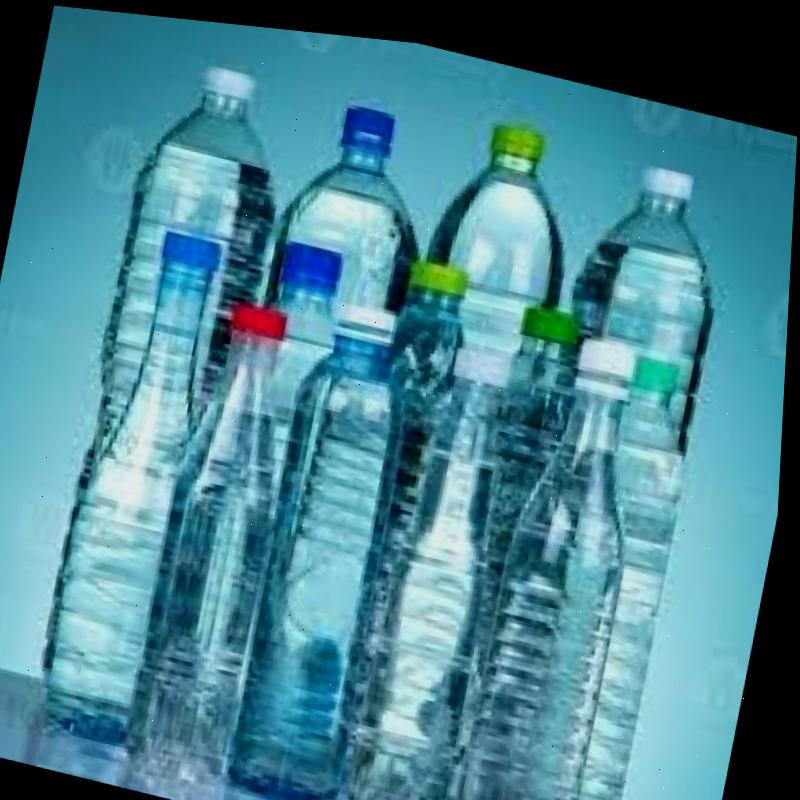botella: (39, 212, 256, 760), (223, 279, 441, 800), (455, 309, 668, 800), (128, 281, 331, 784), (308, 241, 472, 800), (347, 322, 536, 800), (88, 46, 283, 490), (426, 284, 588, 800), (540, 327, 710, 800), (547, 136, 740, 433), (258, 80, 446, 368), (408, 97, 589, 383), (240, 230, 353, 470)
